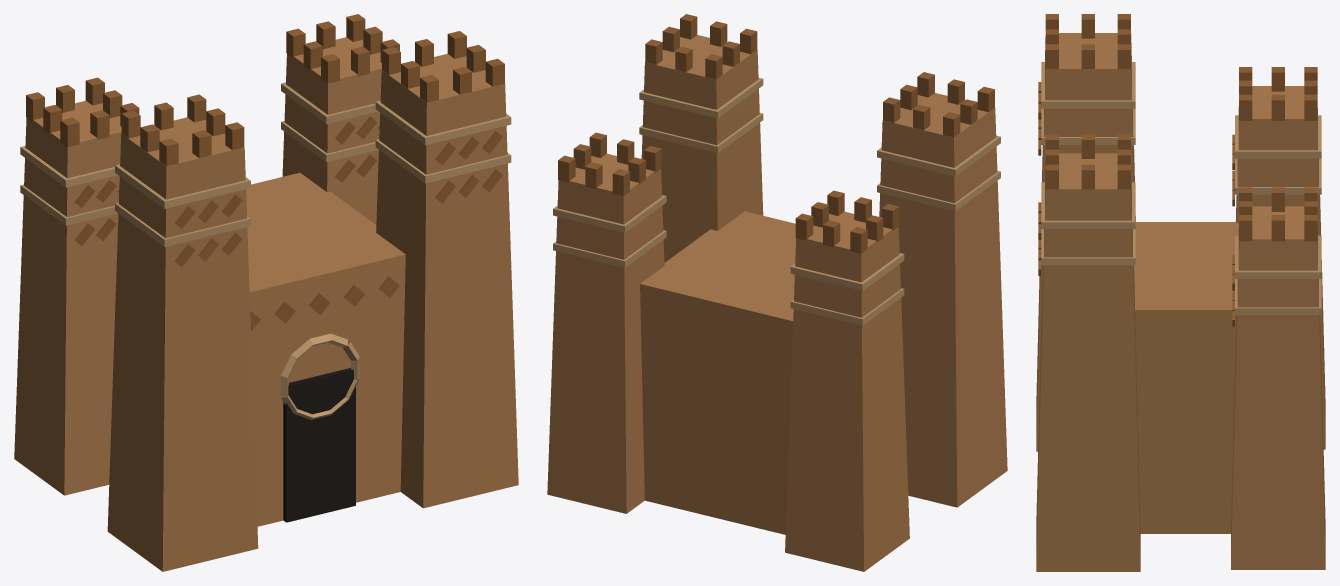
The model's file is fennec_landmark_broken.glb.
3 views of the same model, side by side, from view 1: azimuth 30°, elevation 25°; view 2: azimuth 150°, elevation 25°; view 3: azimuth 270°, elevation 25° (orthographic). The views are drawn at different scales.
Parts seen in each view (by area): view 1: fennec_landmark_piece2, fennec_landmark_piece4, fennec_landmark_piece6, fennec_landmark_piece0, fennec_landmark_piece13, fennec_landmark_piece12, fennec_landmark_piece11, fennec_landmark_piece7, fennec_landmark_piece1, fennec_landmark_piece5, fennec_landmark_piece8, fennec_landmark_piece9 (+2 smaller); view 2: fennec_landmark_piece4, fennec_landmark_piece0, fennec_landmark_piece5, fennec_landmark_piece7, fennec_landmark_piece10, fennec_landmark_piece11, fennec_landmark_piece8, fennec_landmark_piece13, fennec_landmark_piece1, fennec_landmark_piece12, fennec_landmark_piece3, fennec_landmark_piece6 (+2 smaller); view 3: fennec_landmark_piece4, fennec_landmark_piece5, fennec_landmark_piece1, fennec_landmark_piece7, fennec_landmark_piece8, fennec_landmark_piece6, fennec_landmark_piece12, fennec_landmark_piece10, fennec_landmark_piece2, fennec_landmark_piece11.
Boxes of the visible parts, box(x1,y1,x2,y2) form: fennec_landmark_piece2: box(214, 193, 474, 554); fennec_landmark_piece4: box(246, 14, 511, 286); fennec_landmark_piece6: box(127, 118, 303, 488); fennec_landmark_piece0: box(107, 162, 210, 555); fennec_landmark_piece13: box(14, 277, 111, 495); fennec_landmark_piece12: box(363, 76, 498, 301); fennec_landmark_piece11: box(19, 119, 134, 322); fennec_landmark_piece7: box(20, 82, 211, 224); fennec_landmark_piece1: box(194, 94, 425, 329); fennec_landmark_piece5: box(457, 282, 518, 487); fennec_landmark_piece8: box(85, 77, 364, 248); fennec_landmark_piece9: box(99, 473, 234, 571); fennec_landmark_piece4: box(552, 14, 746, 394); fennec_landmark_piece0: box(903, 145, 1006, 507); fennec_landmark_piece5: box(547, 369, 752, 520); fennec_landmark_piece7: box(787, 79, 964, 410); fennec_landmark_piece10: box(761, 268, 917, 563); fennec_landmark_piece11: box(824, 117, 966, 436); fennec_landmark_piece8: box(682, 213, 808, 413); fennec_landmark_piece13: box(832, 343, 909, 571); fennec_landmark_piece1: box(749, 72, 947, 443); fennec_landmark_piece12: box(704, 29, 763, 239); fennec_landmark_piece3: box(726, 428, 804, 557); fennec_landmark_piece6: box(898, 86, 1000, 264); fennec_landmark_piece4: box(1038, 134, 1322, 438); fennec_landmark_piece5: box(1036, 362, 1325, 571); fennec_landmark_piece1: box(1038, 35, 1238, 286); fennec_landmark_piece7: box(1045, 14, 1321, 301); fennec_landmark_piece8: box(1134, 94, 1321, 380); fennec_landmark_piece6: box(1038, 14, 1163, 356); fennec_landmark_piece12: box(1038, 134, 1166, 376); fennec_landmark_piece10: box(1144, 208, 1325, 430); fennec_landmark_piece2: box(1036, 265, 1042, 537); fennec_landmark_piece11: box(1113, 33, 1321, 262).
Size of the model in its own units: 4.1 by 4.62 by 3.05.
